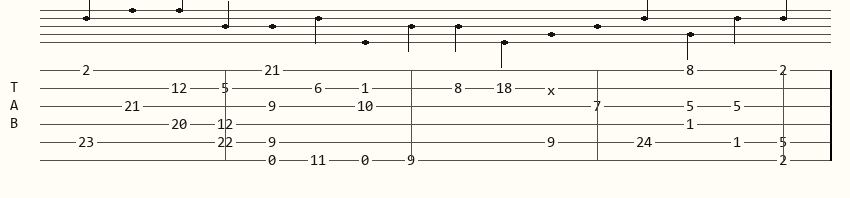0: (268, 153, 280, 167), (361, 153, 373, 167)
1: (361, 81, 373, 95), (686, 117, 698, 131), (733, 135, 745, 149)
10: (357, 99, 377, 113)
11: (310, 153, 330, 167)
12: (171, 81, 191, 95), (217, 117, 237, 131)
18: (496, 81, 516, 95)
2: (82, 63, 94, 77), (779, 153, 791, 167), (779, 63, 791, 77)
20: (171, 117, 191, 131)
21: (124, 99, 144, 113), (264, 63, 284, 77)
22: (217, 135, 237, 149)
23: (78, 135, 98, 149)
24: (636, 135, 656, 149)
5: (221, 81, 233, 95), (686, 99, 698, 113), (733, 99, 745, 113), (779, 135, 791, 149)
6: (314, 81, 326, 95)
7: (593, 99, 605, 113)
8: (454, 81, 466, 95), (686, 63, 698, 77)
9: (268, 135, 280, 149), (268, 99, 280, 113), (407, 153, 419, 167), (547, 135, 559, 149)
x: (547, 83, 559, 94)
